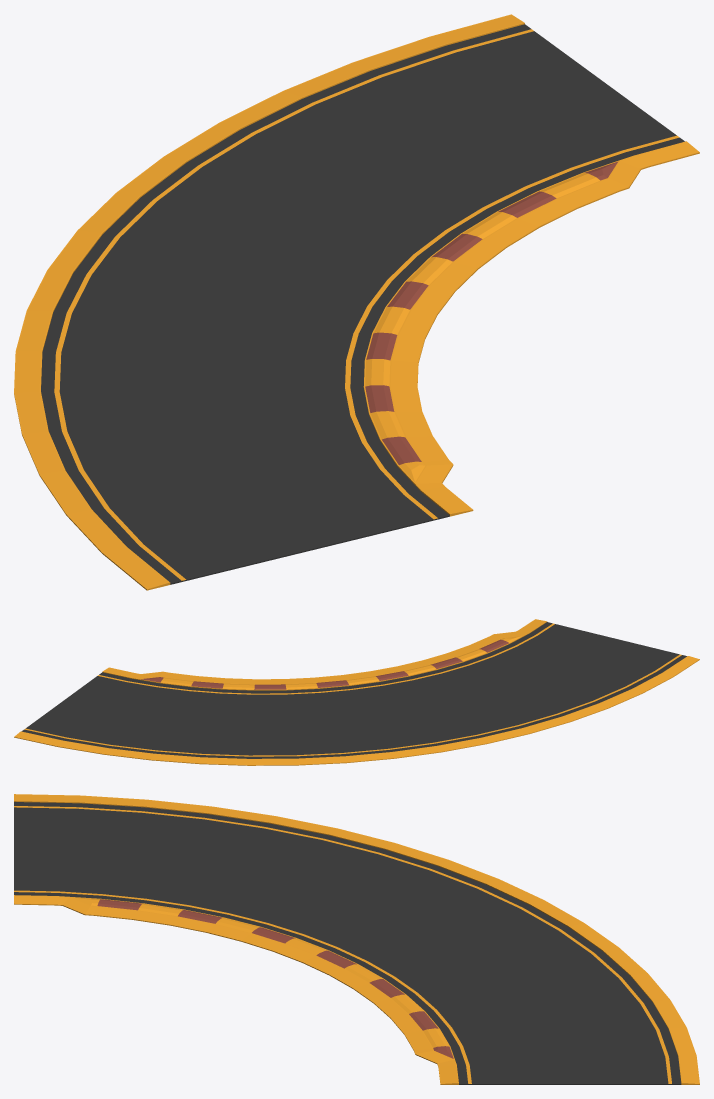
File: SM_Racetrack_RunOff_Curb_Turn_40x40m.fbx
The picture shows the model from 3 angles, top to bottom: view 1: azimuth 30°, elevation 25°; view 2: azimuth 150°, elevation 25°; view 3: azimuth 270°, elevation 25°; orthographic projection. The views are drawn at different scales.
Visible parts, largest first — view 1: SM_Racetrack_RunOff_Curb_Turn_40x40m; view 2: SM_Racetrack_RunOff_Curb_Turn_40x40m; view 3: SM_Racetrack_RunOff_Curb_Turn_40x40m.
Boxes of the visible parts, left/top/right/bottom form: SM_Racetrack_RunOff_Curb_Turn_40x40m: left=14, top=14, right=699, bottom=590; SM_Racetrack_RunOff_Curb_Turn_40x40m: left=14, top=619, right=699, bottom=765; SM_Racetrack_RunOff_Curb_Turn_40x40m: left=14, top=794, right=699, bottom=1084.
Bounding box in the file's own units: 37 × 0.15 × 37.
